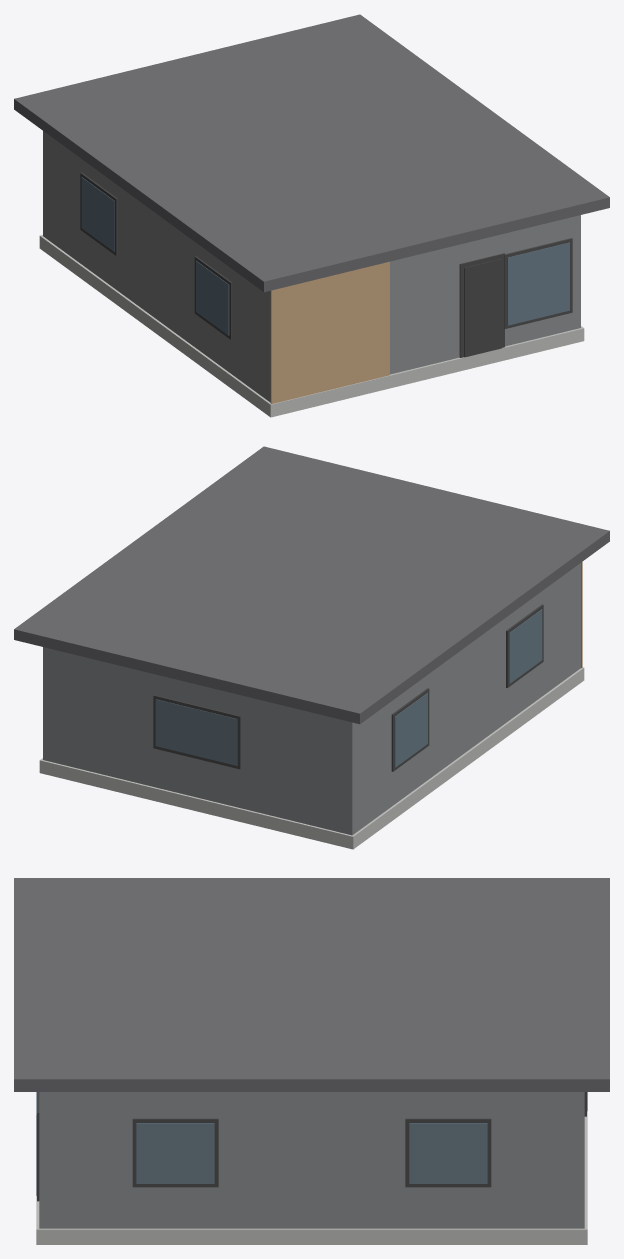
File: two-bed-modern.glb
3 renders of one model, top to bottom at view 1: azimuth 30°, elevation 25°; view 2: azimuth 150°, elevation 25°; view 3: azimuth 270°, elevation 25°, orthographic. The views are drawn at different scales.
Visible parts, largest first — view 1: The Manteca (modern); view 2: The Manteca (modern); view 3: The Manteca (modern).
Boxes of the visible parts, x1,y1,x2,y2 form: The Manteca (modern): [14, 14, 609, 417]; The Manteca (modern): [14, 446, 609, 849]; The Manteca (modern): [14, 878, 609, 1244].
Bounding box in the file's own units: 8.52 × 3.45 × 10.65.
